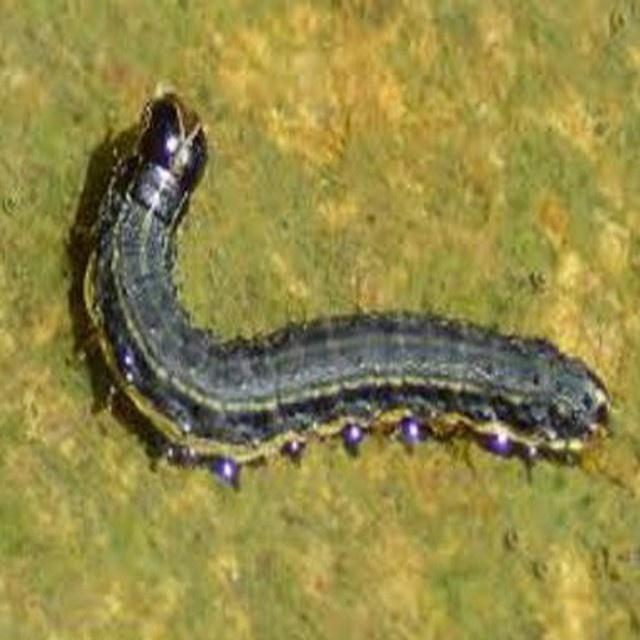worm: (65, 84, 614, 493)
